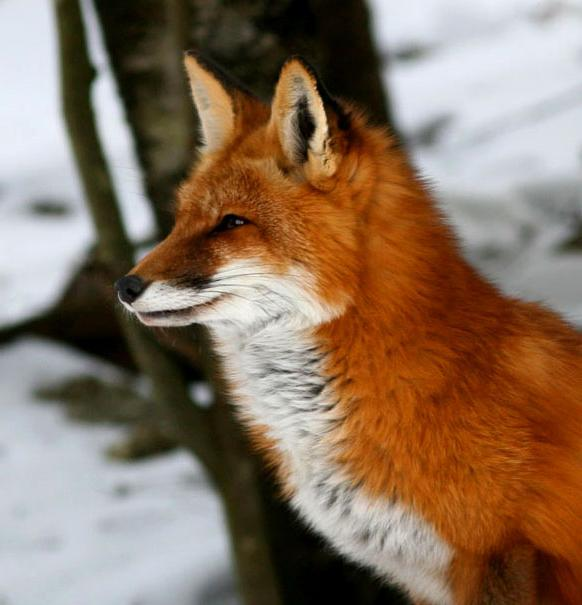fox: (105, 49, 582, 604)
